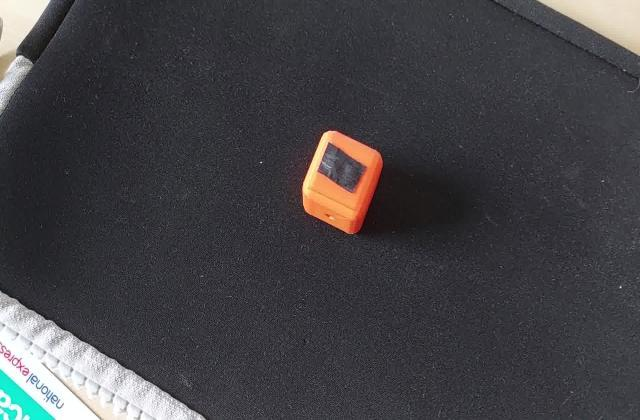black: (316, 148, 374, 194)
sticker: (300, 128, 386, 237)
